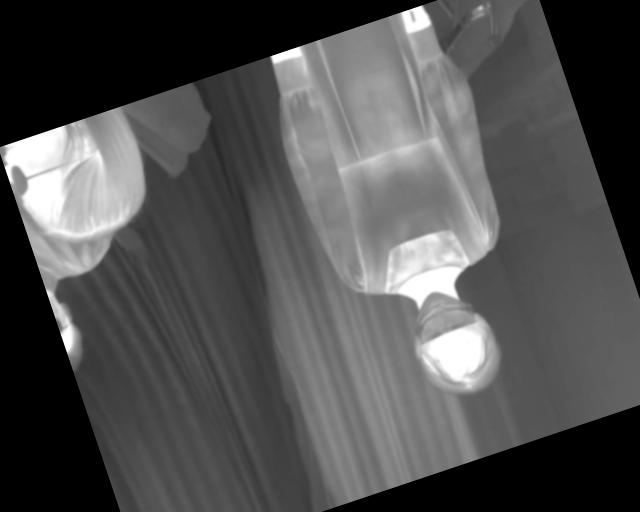face: (396, 274, 514, 408)
